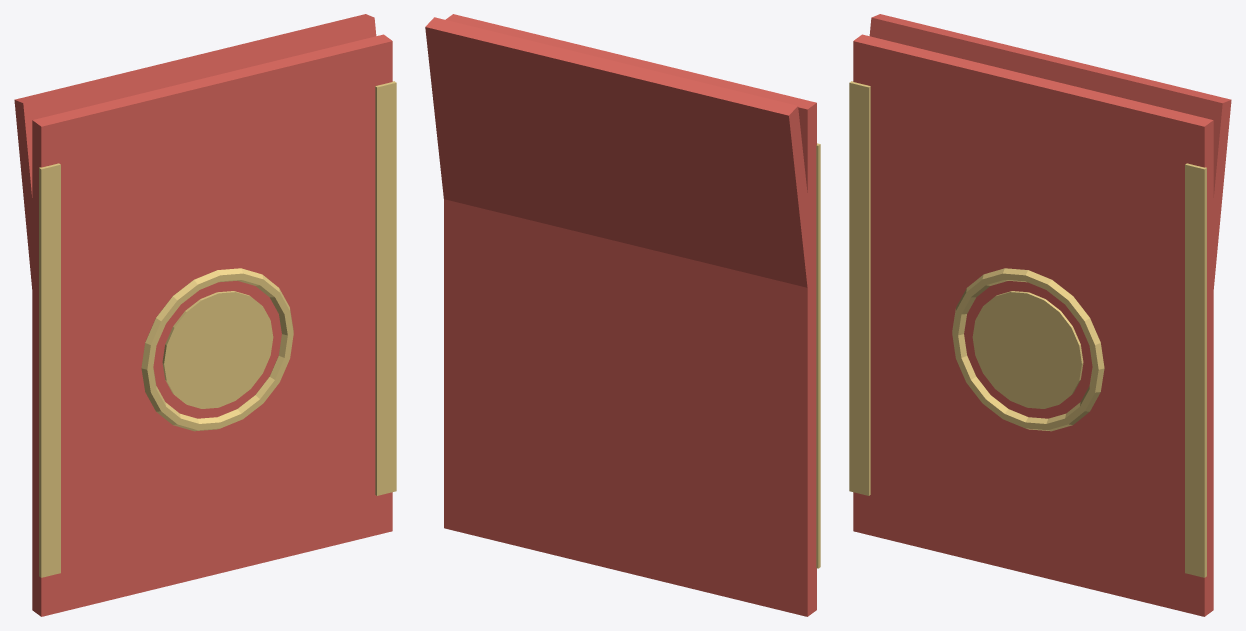
File: item_38_red_envelope.glb
The picture shows the model from 3 angles, left to right: view 1: azimuth 30°, elevation 25°; view 2: azimuth 150°, elevation 25°; view 3: azimuth 330°, elevation 25°; orthographic projection. The views are drawn at different scales.
Parts seen in each view (by area): view 1: I38_Bag, I38_Flap, I38_Emblem, I38_Corner0, I38_Corner1, I38_EmblemRing; view 2: I38_Bag, I38_Flap, I38_Corner0; view 3: I38_Bag, I38_Flap, I38_Emblem, I38_Corner1, I38_Corner0, I38_EmblemRing.
Boxes of the visible parts, x1,y1,x2,y2 form: I38_Bag: (32, 34, 392, 616); I38_Flap: (14, 14, 376, 291); I38_Emblem: (162, 291, 273, 408); I38_Corner0: (39, 163, 60, 577); I38_Corner1: (375, 81, 396, 495); I38_EmblemRing: (141, 268, 293, 431); I38_Bag: (444, 14, 816, 616); I38_Flap: (425, 17, 816, 288); I38_Corner0: (816, 143, 820, 568); I38_Bag: (853, 34, 1213, 616); I38_Flap: (869, 14, 1231, 288); I38_Emblem: (972, 291, 1083, 408); I38_Corner1: (1185, 163, 1206, 577); I38_Corner0: (849, 81, 870, 495); I38_EmblemRing: (952, 268, 1104, 431).
Size of the model in its own units: 0.091 by 0.1225 by 0.0135.
